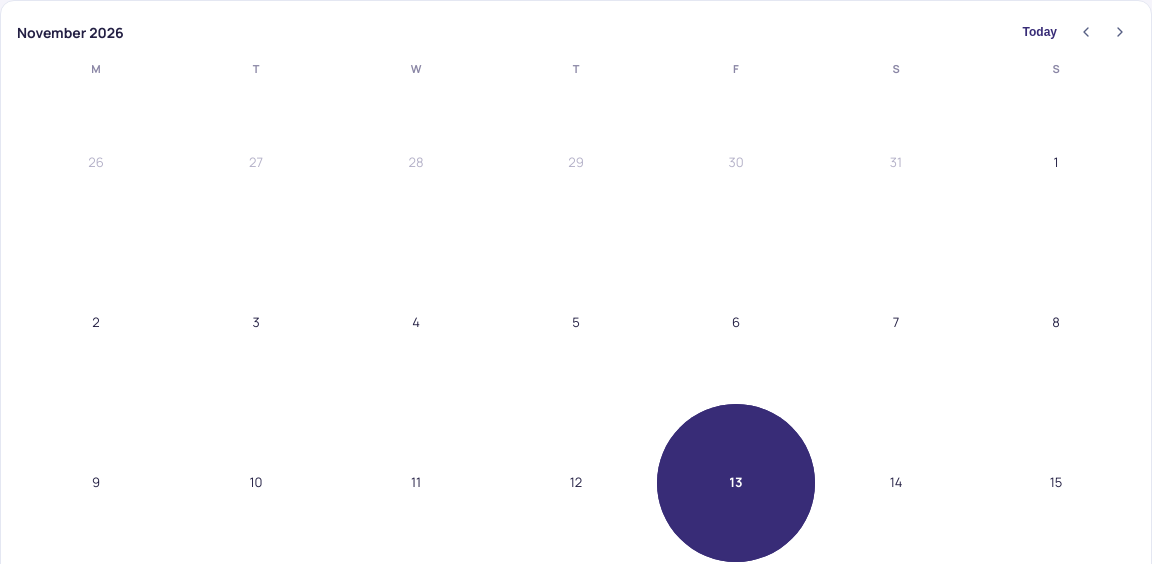
MiniCalendar › moves between months and back to today
Click the button named "Next month" at (1120, 32), box [1105,17,1135,47]
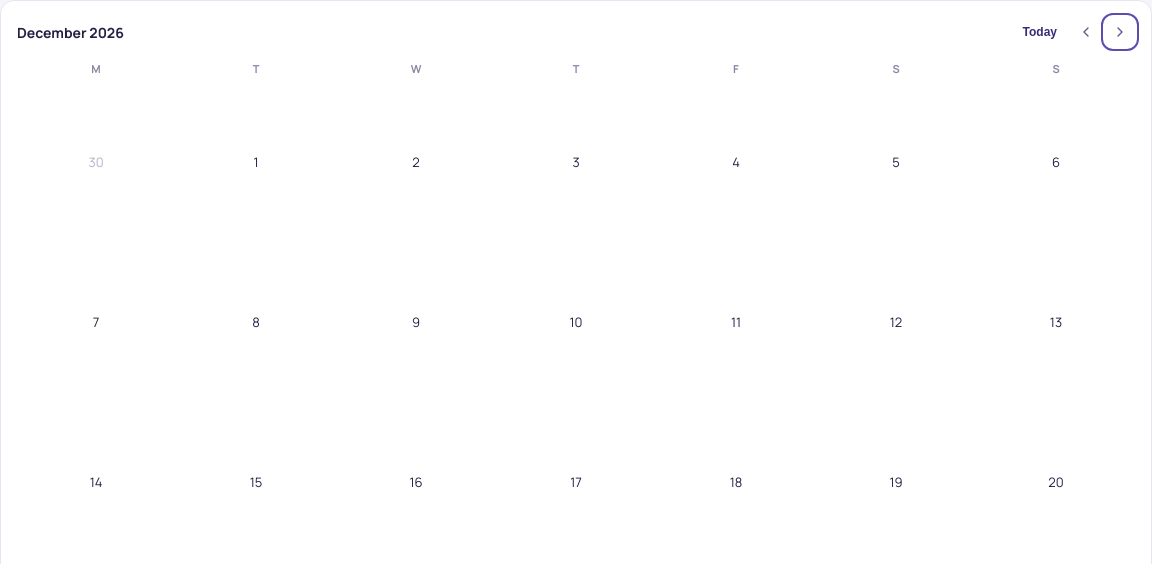
Expected: the text "December 2026" is shown, [17,22,124,42]
Click the button named "Previous month" at (1086, 32), box [1071,17,1101,47]
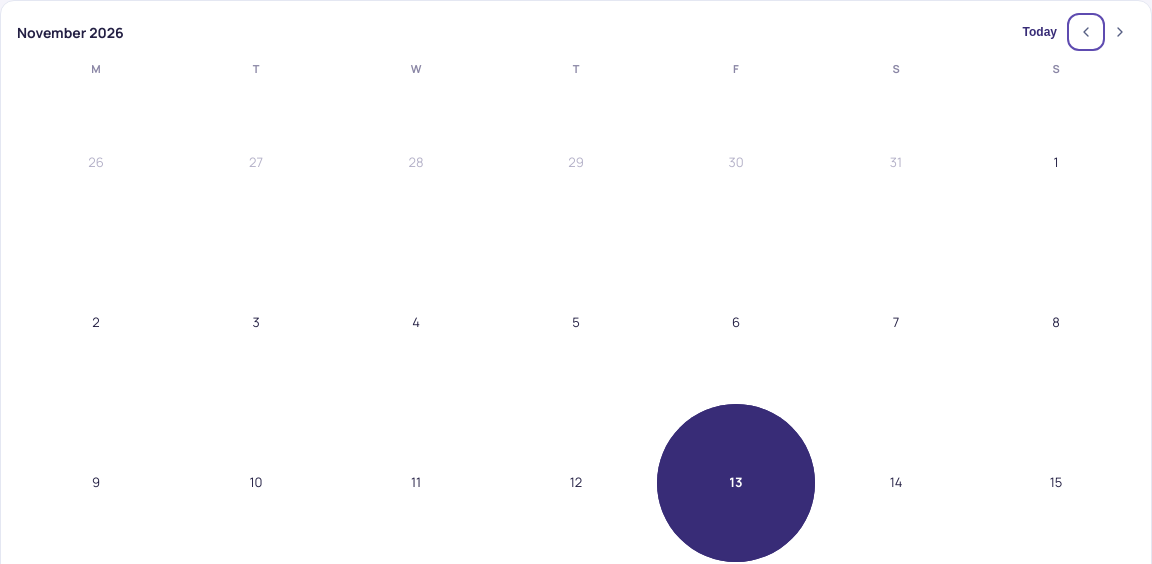
Click the button named "Previous month" at (1086, 32), box [1071,17,1101,47]
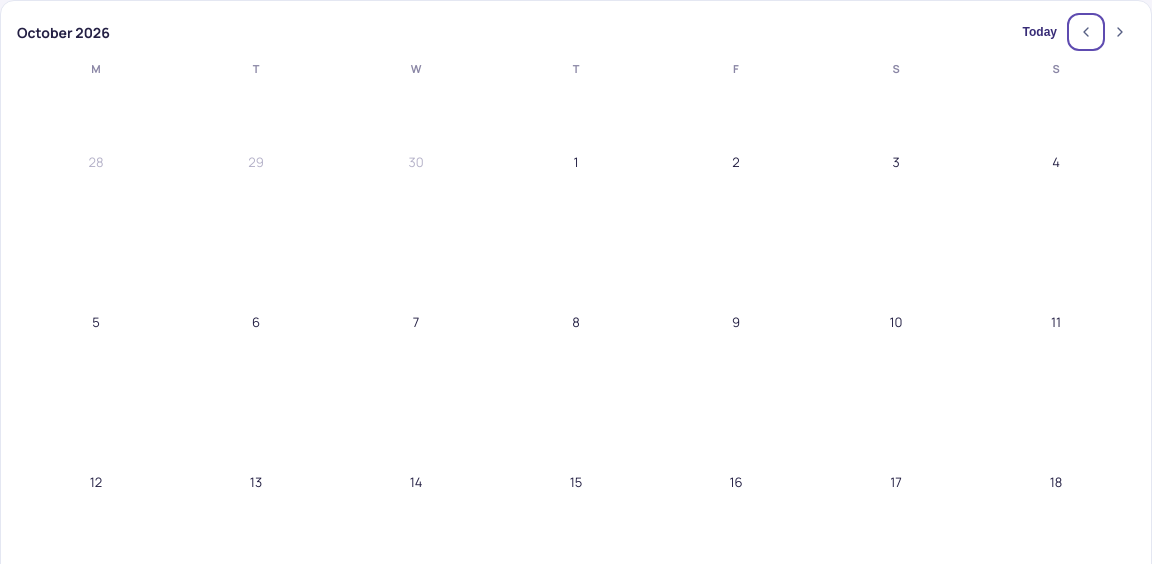
Expected: the text "October 2026" is shown, [17,22,110,42]
Click the button "Today" at (1040, 32), box [1012,17,1067,47]
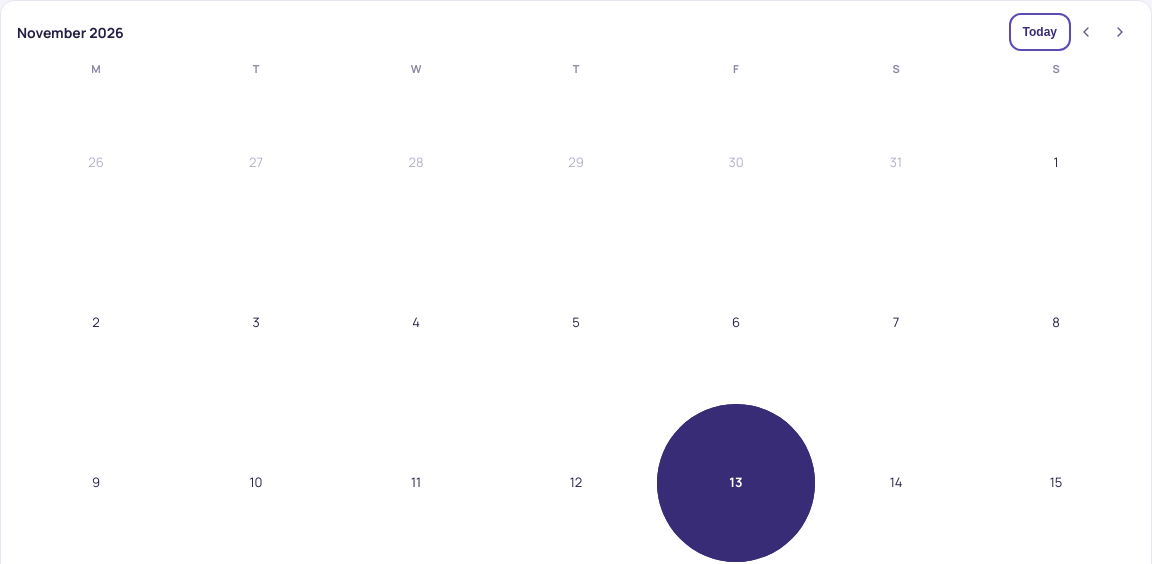
Expected: the text "November 2026" is shown, [17,22,124,42]
